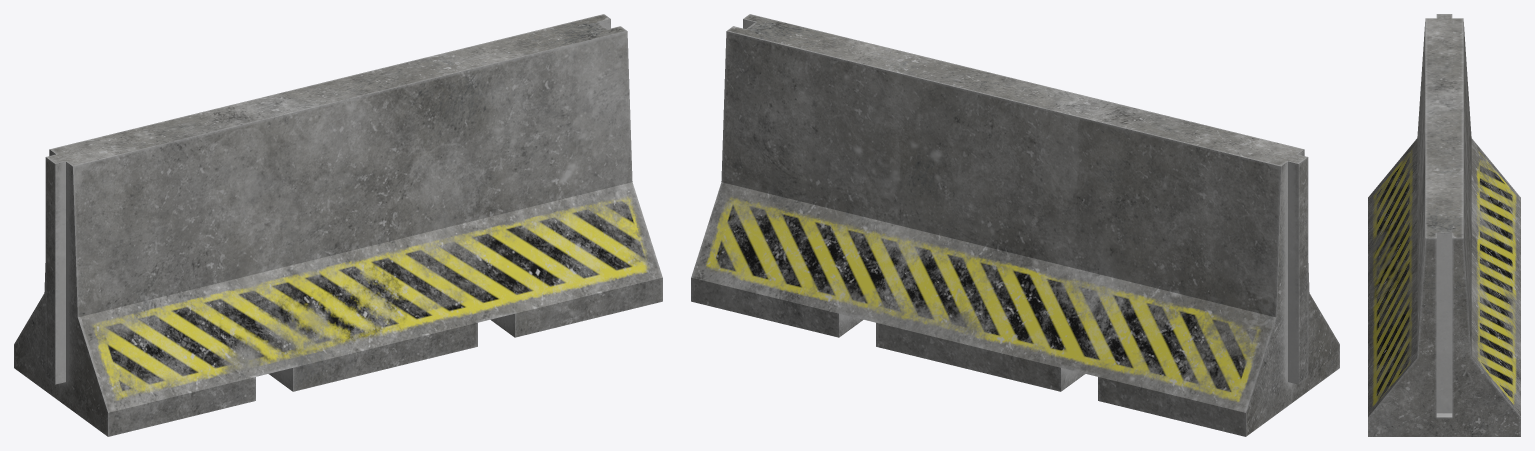
Rendered from concrete_barrier.glb.
3 renders of one model, left to right at view 1: azimuth 30°, elevation 25°; view 2: azimuth 150°, elevation 25°; view 3: azimuth 270°, elevation 25°, orthographic. The views are drawn at different scales.
Bounding box in the file's own units: 0.4586 × 0.1896 × 0.132.
1 material, 1 textured.
